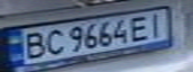4: (109, 16, 133, 44)
6: (97, 19, 118, 47), (81, 21, 100, 50)
9: (66, 24, 87, 53)
B: (18, 29, 51, 61)
C: (42, 26, 69, 56)
E: (127, 12, 157, 42)
I: (145, 11, 169, 38)
